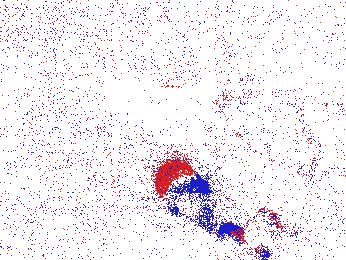flame jellyfish: (213, 207, 301, 260), (155, 160, 216, 228), (33, 216, 91, 260)
